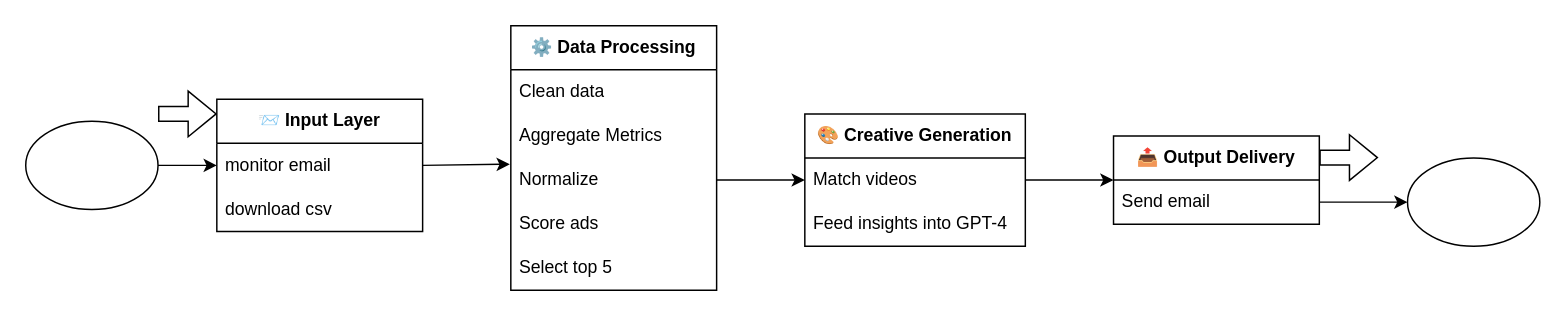
Some shapes in this 1566 by 316 pixel diagram are drawn without their labels. Here are the shapes that lost their labels. From the top down, the centre of each, then its label:
At (x=91, y=164): "Start".
At (x=1473, y=201): "Process complete".
